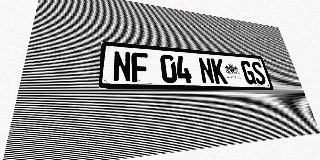0: (160, 54, 178, 83)
4: (175, 55, 193, 83)
F: (131, 52, 149, 82)
G: (240, 60, 257, 84)
K: (210, 58, 228, 84)
N: (113, 51, 131, 82), (198, 57, 215, 84)
S: (250, 61, 267, 85)
